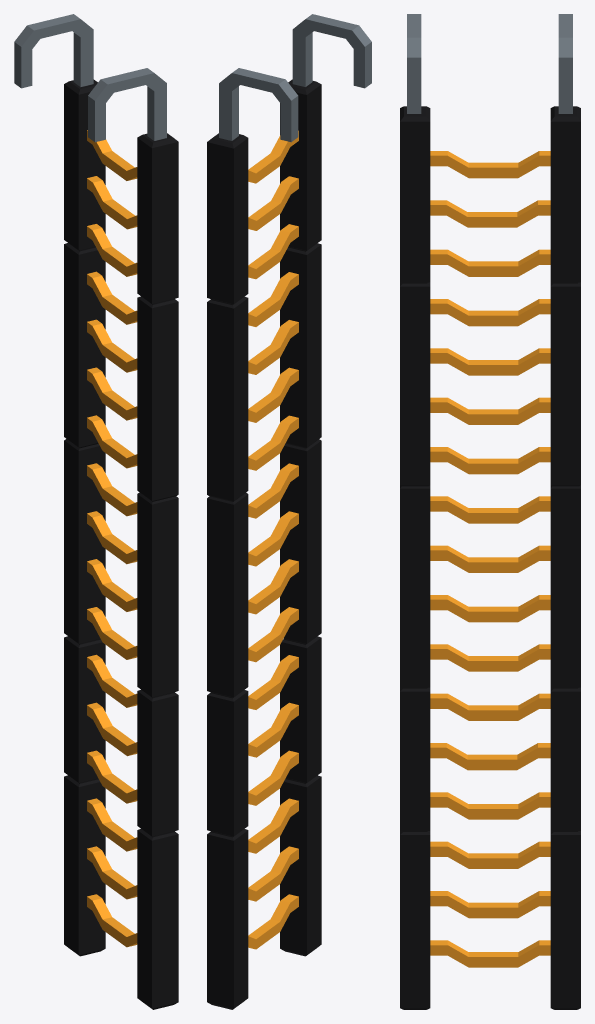
Rendered from SM_ladder.glb.
The picture shows the model from 3 angles, left to right: view 1: azimuth 30°, elevation 25°; view 2: azimuth 150°, elevation 25°; view 3: azimuth 270°, elevation 25°; orthographic projection. The views are drawn at different scales.
Parts seen in each view (by area): view 1: SM_ladder; view 2: SM_ladder; view 3: SM_ladder.
Part boxes in pixels (box(x1,y1,x2,y2)): SM_ladder: box(14, 14, 178, 1009); SM_ladder: box(207, 14, 371, 1009); SM_ladder: box(400, 14, 580, 1009).
Bounding box in the file's own units: 0.4945 × 5.49 × 0.9343.
Materials: 1 (1 with a texture image).
